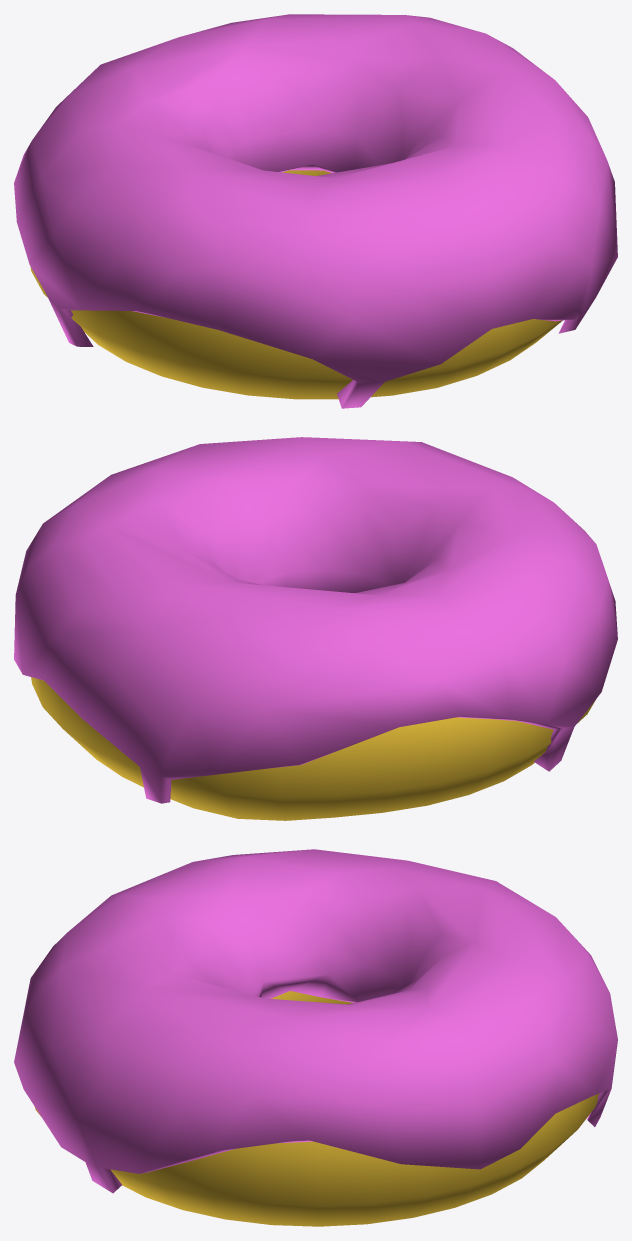
The model's file is donut.fbx.
3 renders of one model, top to bottom at view 1: azimuth 30°, elevation 25°; view 2: azimuth 150°, elevation 25°; view 3: azimuth 270°, elevation 25°, orthographic.
Visible parts, largest first — view 1: icing, donut; view 2: icing, donut; view 3: icing, donut.
Boxes of the visible parts, x1=… form: icing: x1=14, y1=14, x2=617, y2=408; donut: x1=30, y1=170, x2=562, y2=399; icing: x1=14, y1=437, x2=617, y2=803; donut: x1=31, y1=677, x2=595, y2=820; icing: x1=14, y1=849, x2=617, y2=1193; donut: x1=35, y1=991, x2=599, y2=1226.
Bounding box in the file's own units: 31.94 × 12.24 × 32.63.
